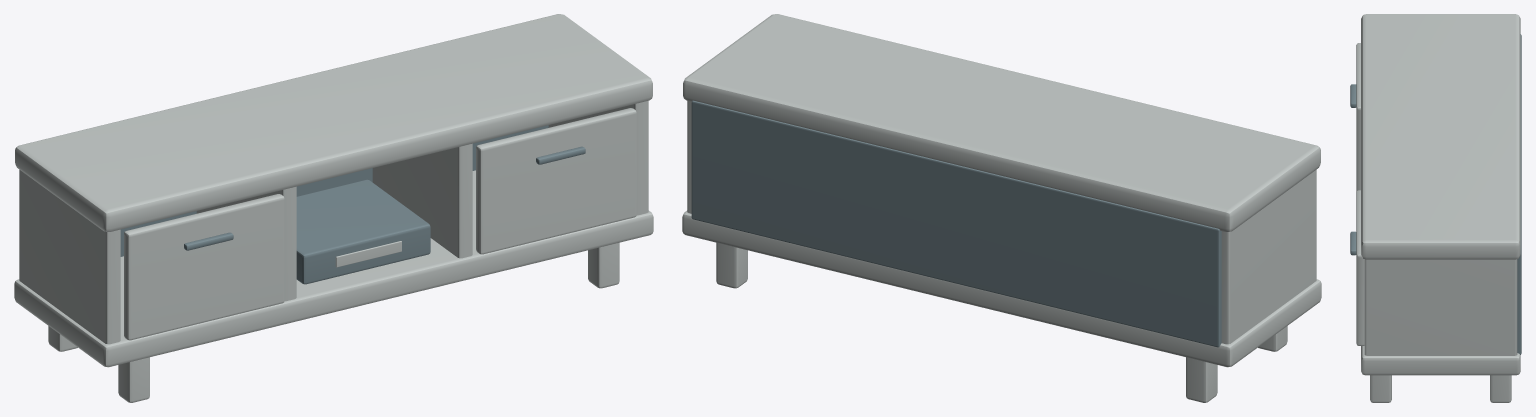
Rendered from tv-stand.glb.
3 renders of one model, left to right at view 1: azimuth 30°, elevation 25°; view 2: azimuth 150°, elevation 25°; view 3: azimuth 270°, elevation 25°, orthographic. The views are drawn at different scales.
Visible parts, largest first — view 1: top, cabinet_door, cabinet_door.001, bottom, partition, media_receiver, partition.002, partition.001, partition.003, rear, leg_1_1, leg_0_1 (+1 smaller); view 2: rear, top, bottom, partition, leg_1_0, leg_0_0, partition.003; view 3: top, partition.003, bottom, cabinet_door.001, rear, cabinet_door, leg_1_0, leg_1_1, pull.001.
Boxes of the visible parts, bbox=[...] form: top: bbox=[15, 14, 652, 231]; cabinet_door: bbox=[124, 194, 284, 340]; cabinet_door.001: bbox=[476, 108, 636, 254]; bottom: bbox=[14, 170, 653, 367]; partition: bbox=[19, 170, 120, 344]; media_receiver: bbox=[296, 179, 430, 284]; partition.002: bbox=[372, 143, 472, 258]; partition.001: bbox=[196, 186, 296, 301]; partition.003: bbox=[548, 100, 648, 215]; rear: bbox=[120, 125, 548, 256]; leg_1_1: bbox=[588, 242, 619, 288]; leg_0_1: bbox=[118, 357, 149, 402]; rear: bbox=[691, 100, 1221, 347]; top: bbox=[683, 14, 1320, 231]; bottom: bbox=[682, 210, 1321, 367]; partition: bbox=[1221, 170, 1316, 344]; leg_1_0: bbox=[716, 242, 747, 288]; leg_0_0: bbox=[1186, 357, 1217, 402]; partition.003: bbox=[687, 100, 691, 213]; top: bbox=[1361, 14, 1520, 259]; partition.003: bbox=[1364, 259, 1517, 355]; bottom: bbox=[1361, 346, 1520, 375]; cabinet_door.001: bbox=[1356, 190, 1364, 345]; rear: bbox=[1517, 34, 1521, 354]; cabinet_door: bbox=[1356, 43, 1360, 191]; leg_1_0: bbox=[1490, 375, 1511, 402]; leg_1_1: bbox=[1370, 375, 1391, 402]; pull.001: bbox=[1350, 231, 1356, 255].
Size of the model in its own units: 1.5 by 0.53 by 0.471.
